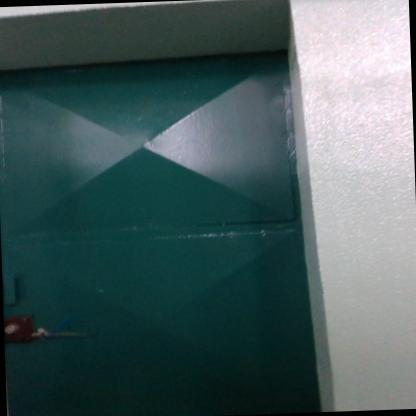closed: (0, 18, 342, 416)
